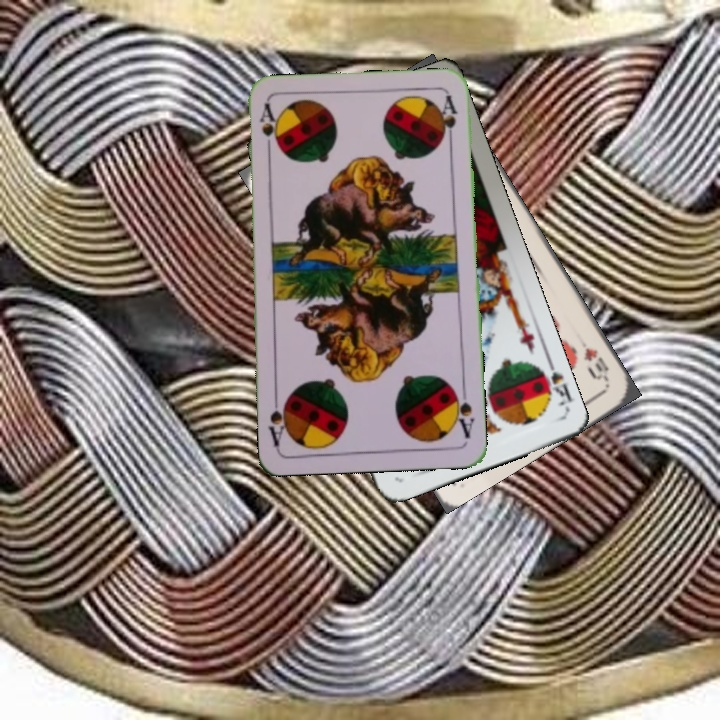H10: (579, 344, 612, 385)
SA: (449, 382, 477, 441), (255, 100, 280, 159)
SK: (532, 355, 574, 409)
